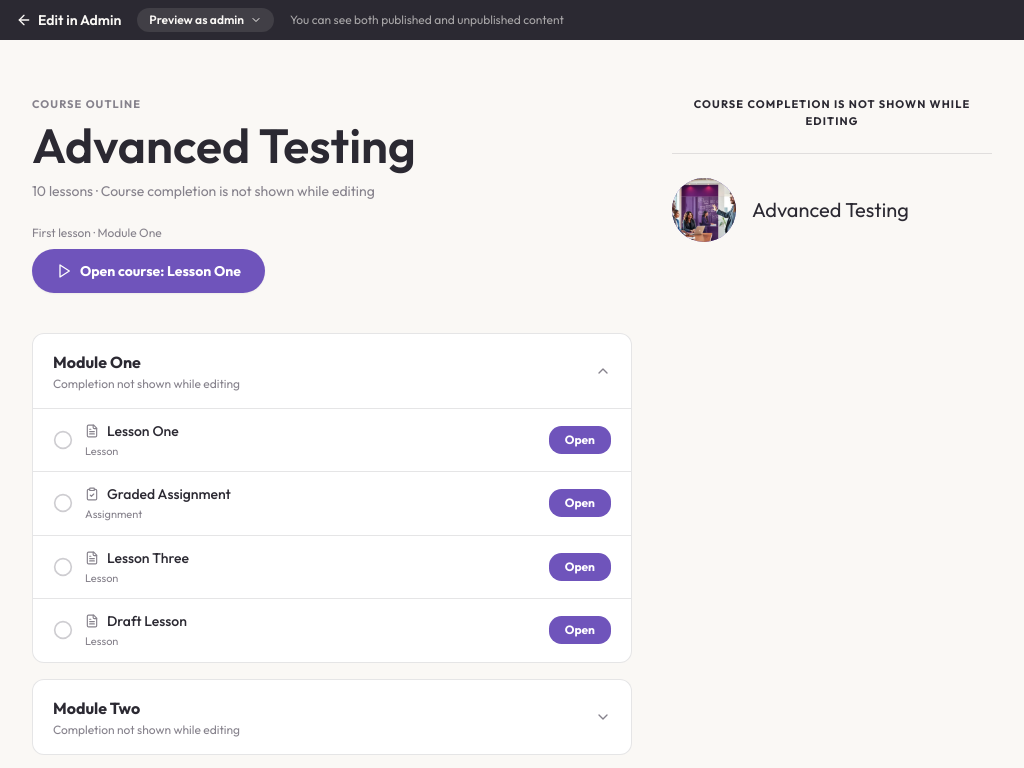
Scenario: CourseLearn read model (T-10) › T-10 C: edit mode hides completion on EVERY surface; preview as student is the current viewer › edit to preview as student: the same surfaces show the current viewer's own snapshot (no impersonation)
The image size is (1024, 768).
Click the button "Preview as admin" at point(206, 20), box [137, 8, 274, 32]
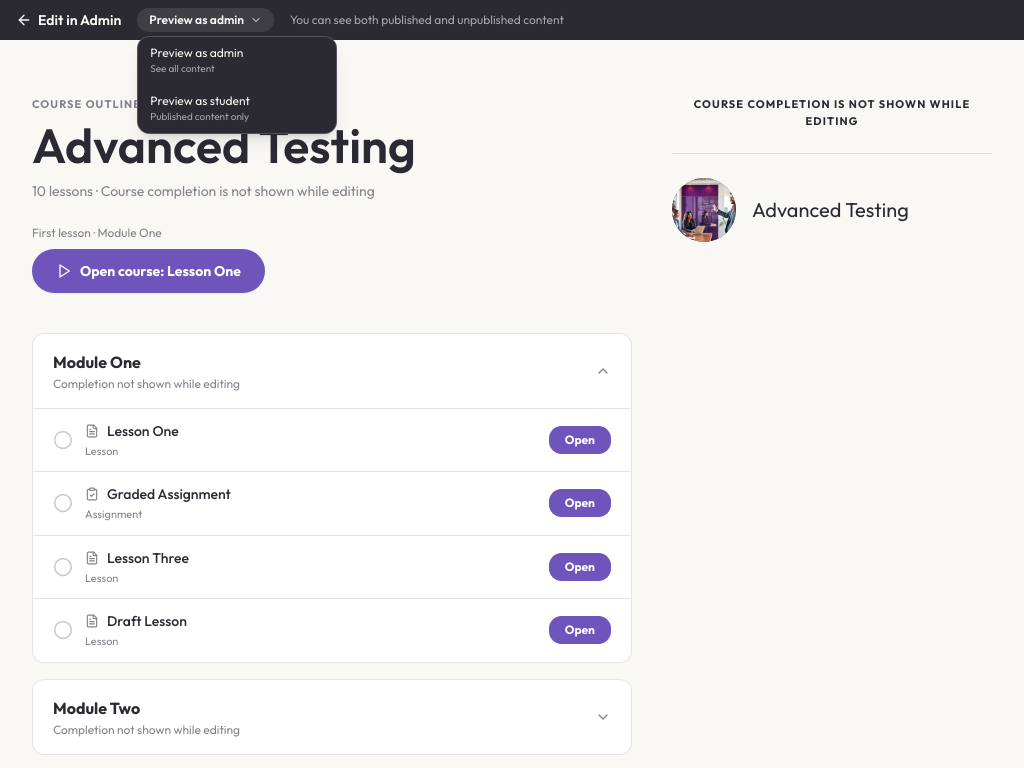
Press the mouse on the button "Preview as student Published content only" at point(237, 109), box [138, 85, 336, 133]
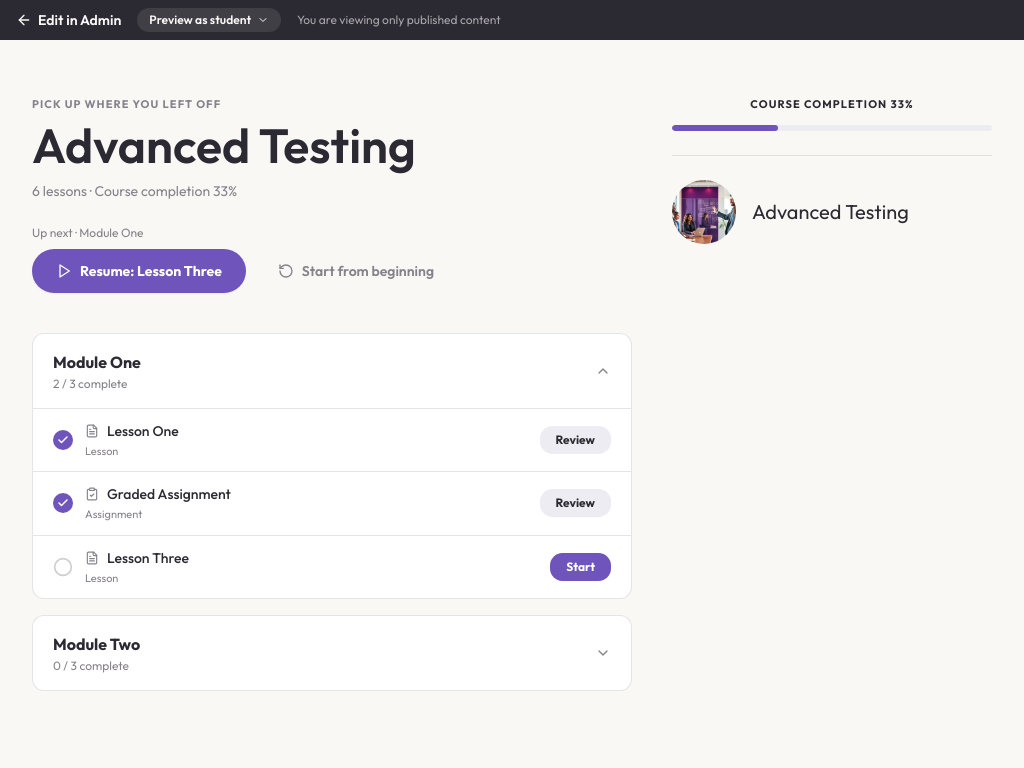
Result: the text "6 lessons · Course completion 33%" is shown at [32, 182, 237, 200]
Result: the text "2 / 3 complete" is shown at [53, 376, 128, 390]
Result: the text "0 / 3 complete" is shown at [53, 658, 140, 674]
